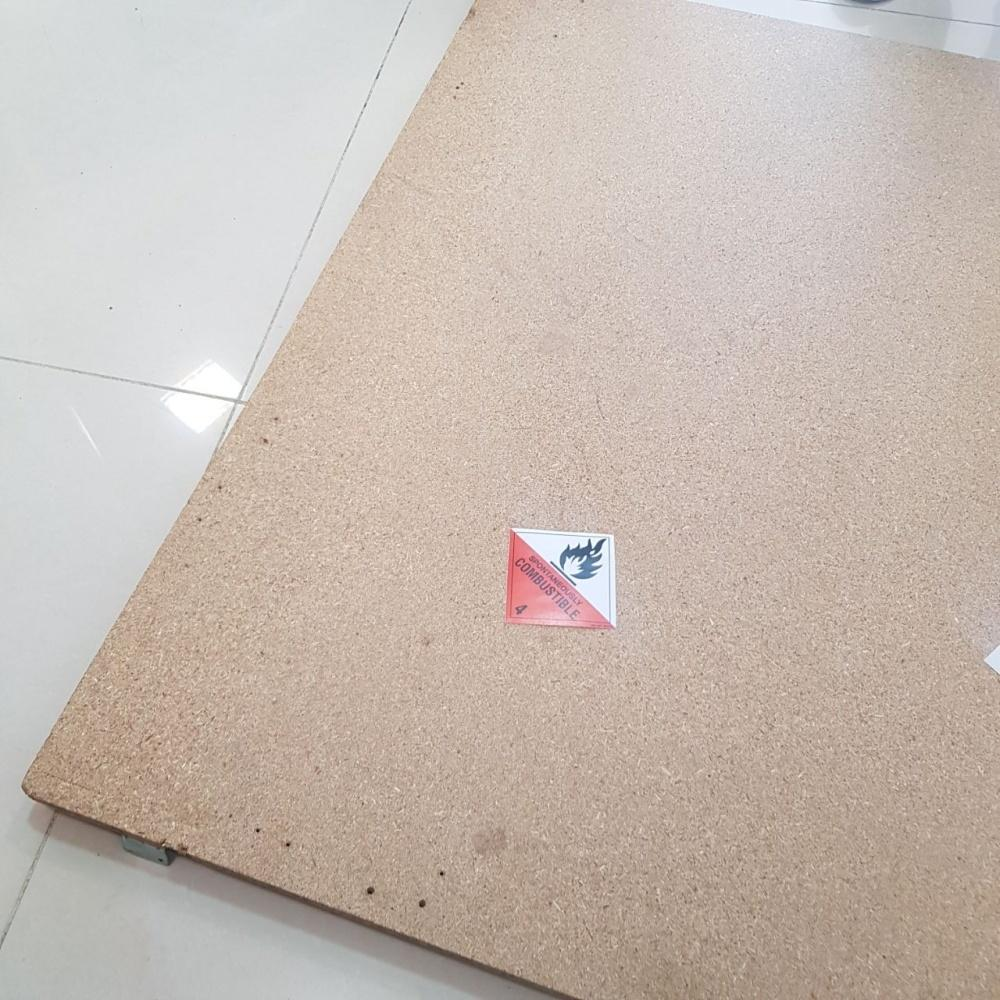spontaneously-combustible: (505, 526, 619, 633)
